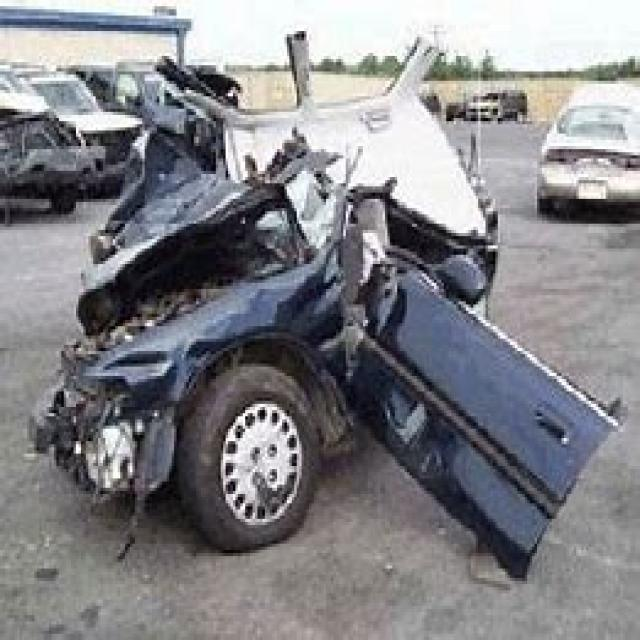Accident: (87, 28, 600, 549)
